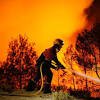smoke: (16, 6, 89, 38)
